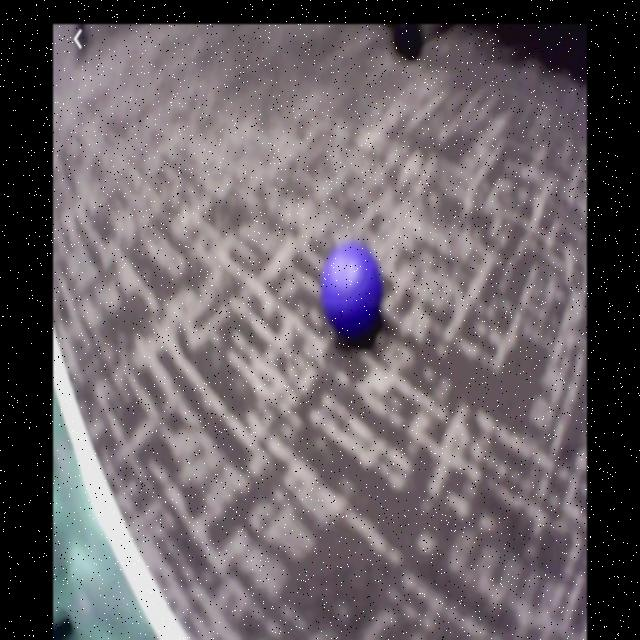ball: (323, 241, 384, 335)
